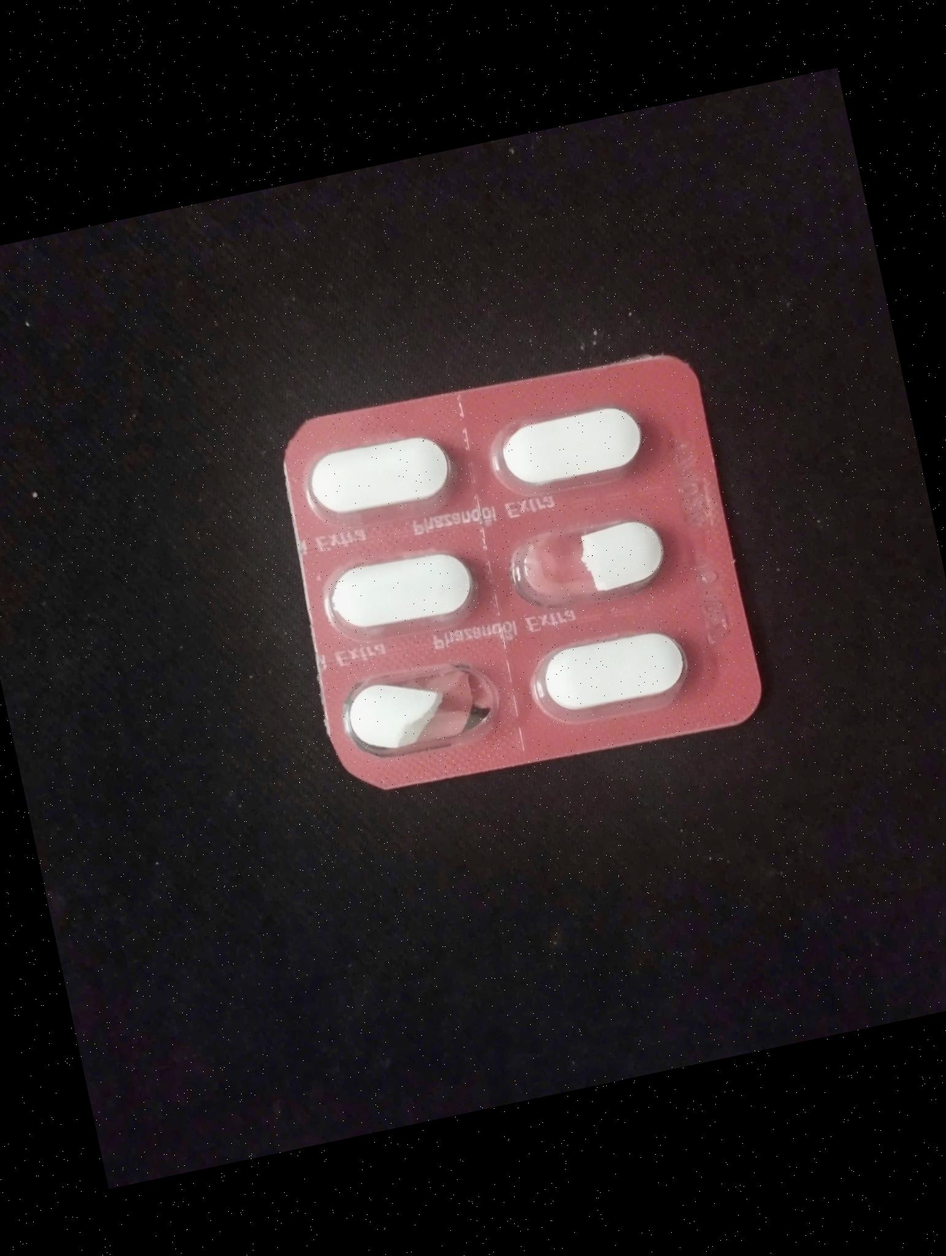Full: (529, 620, 708, 730), (299, 420, 470, 534), (315, 535, 484, 646), (488, 391, 654, 503)
Partial: (336, 649, 515, 764), (507, 518, 675, 618)
